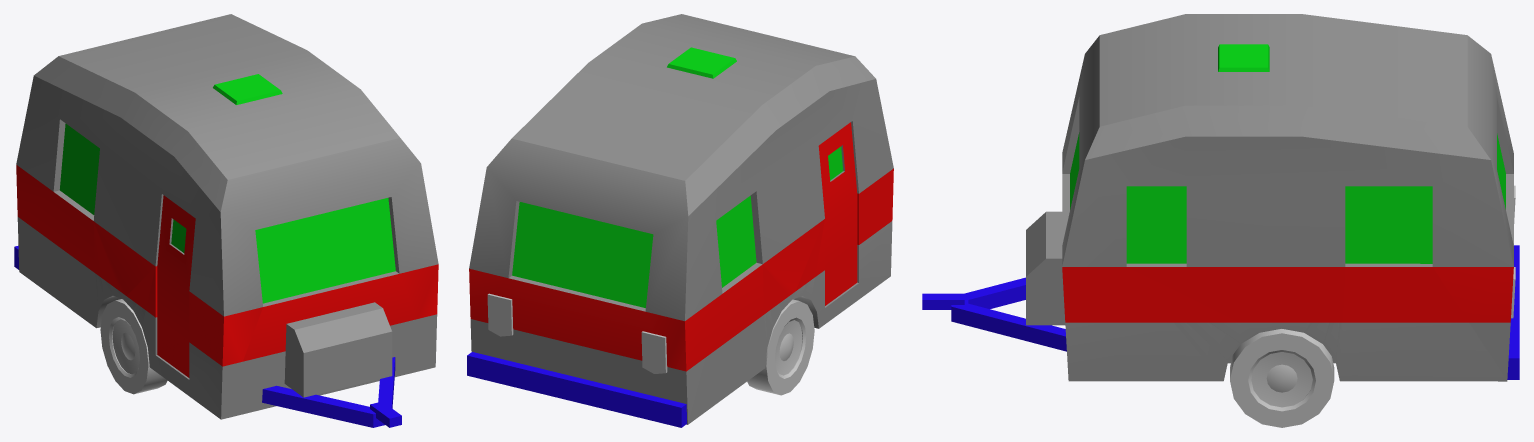
Rendered from carvan.FBX.
3 renders of one model, left to right at view 1: azimuth 30°, elevation 25°; view 2: azimuth 150°, elevation 25°; view 3: azimuth 270°, elevation 25°, orthographic. The views are drawn at different scales.
Visible parts, largest first — view 1: caravan, wheel_default_2.004; view 2: caravan, wheel_default_2.004, caravan_lights.brakes; view 3: caravan, wheel_default_2.005.
Boxes of the visible parts, box(x1,y1,x2,y2) form: caravan: box(14, 14, 438, 427); wheel_default_2.004: box(100, 299, 167, 394); caravan: box(467, 14, 893, 427); wheel_default_2.004: box(747, 299, 814, 395); caravan_lights.brakes: box(488, 306, 667, 373); caravan: box(922, 14, 1519, 381); wheel_default_2.005: box(1230, 329, 1334, 427).
Bounding box in the file's own units: 1.08e+07 × 1.4e+07 × 2.39e+07.
